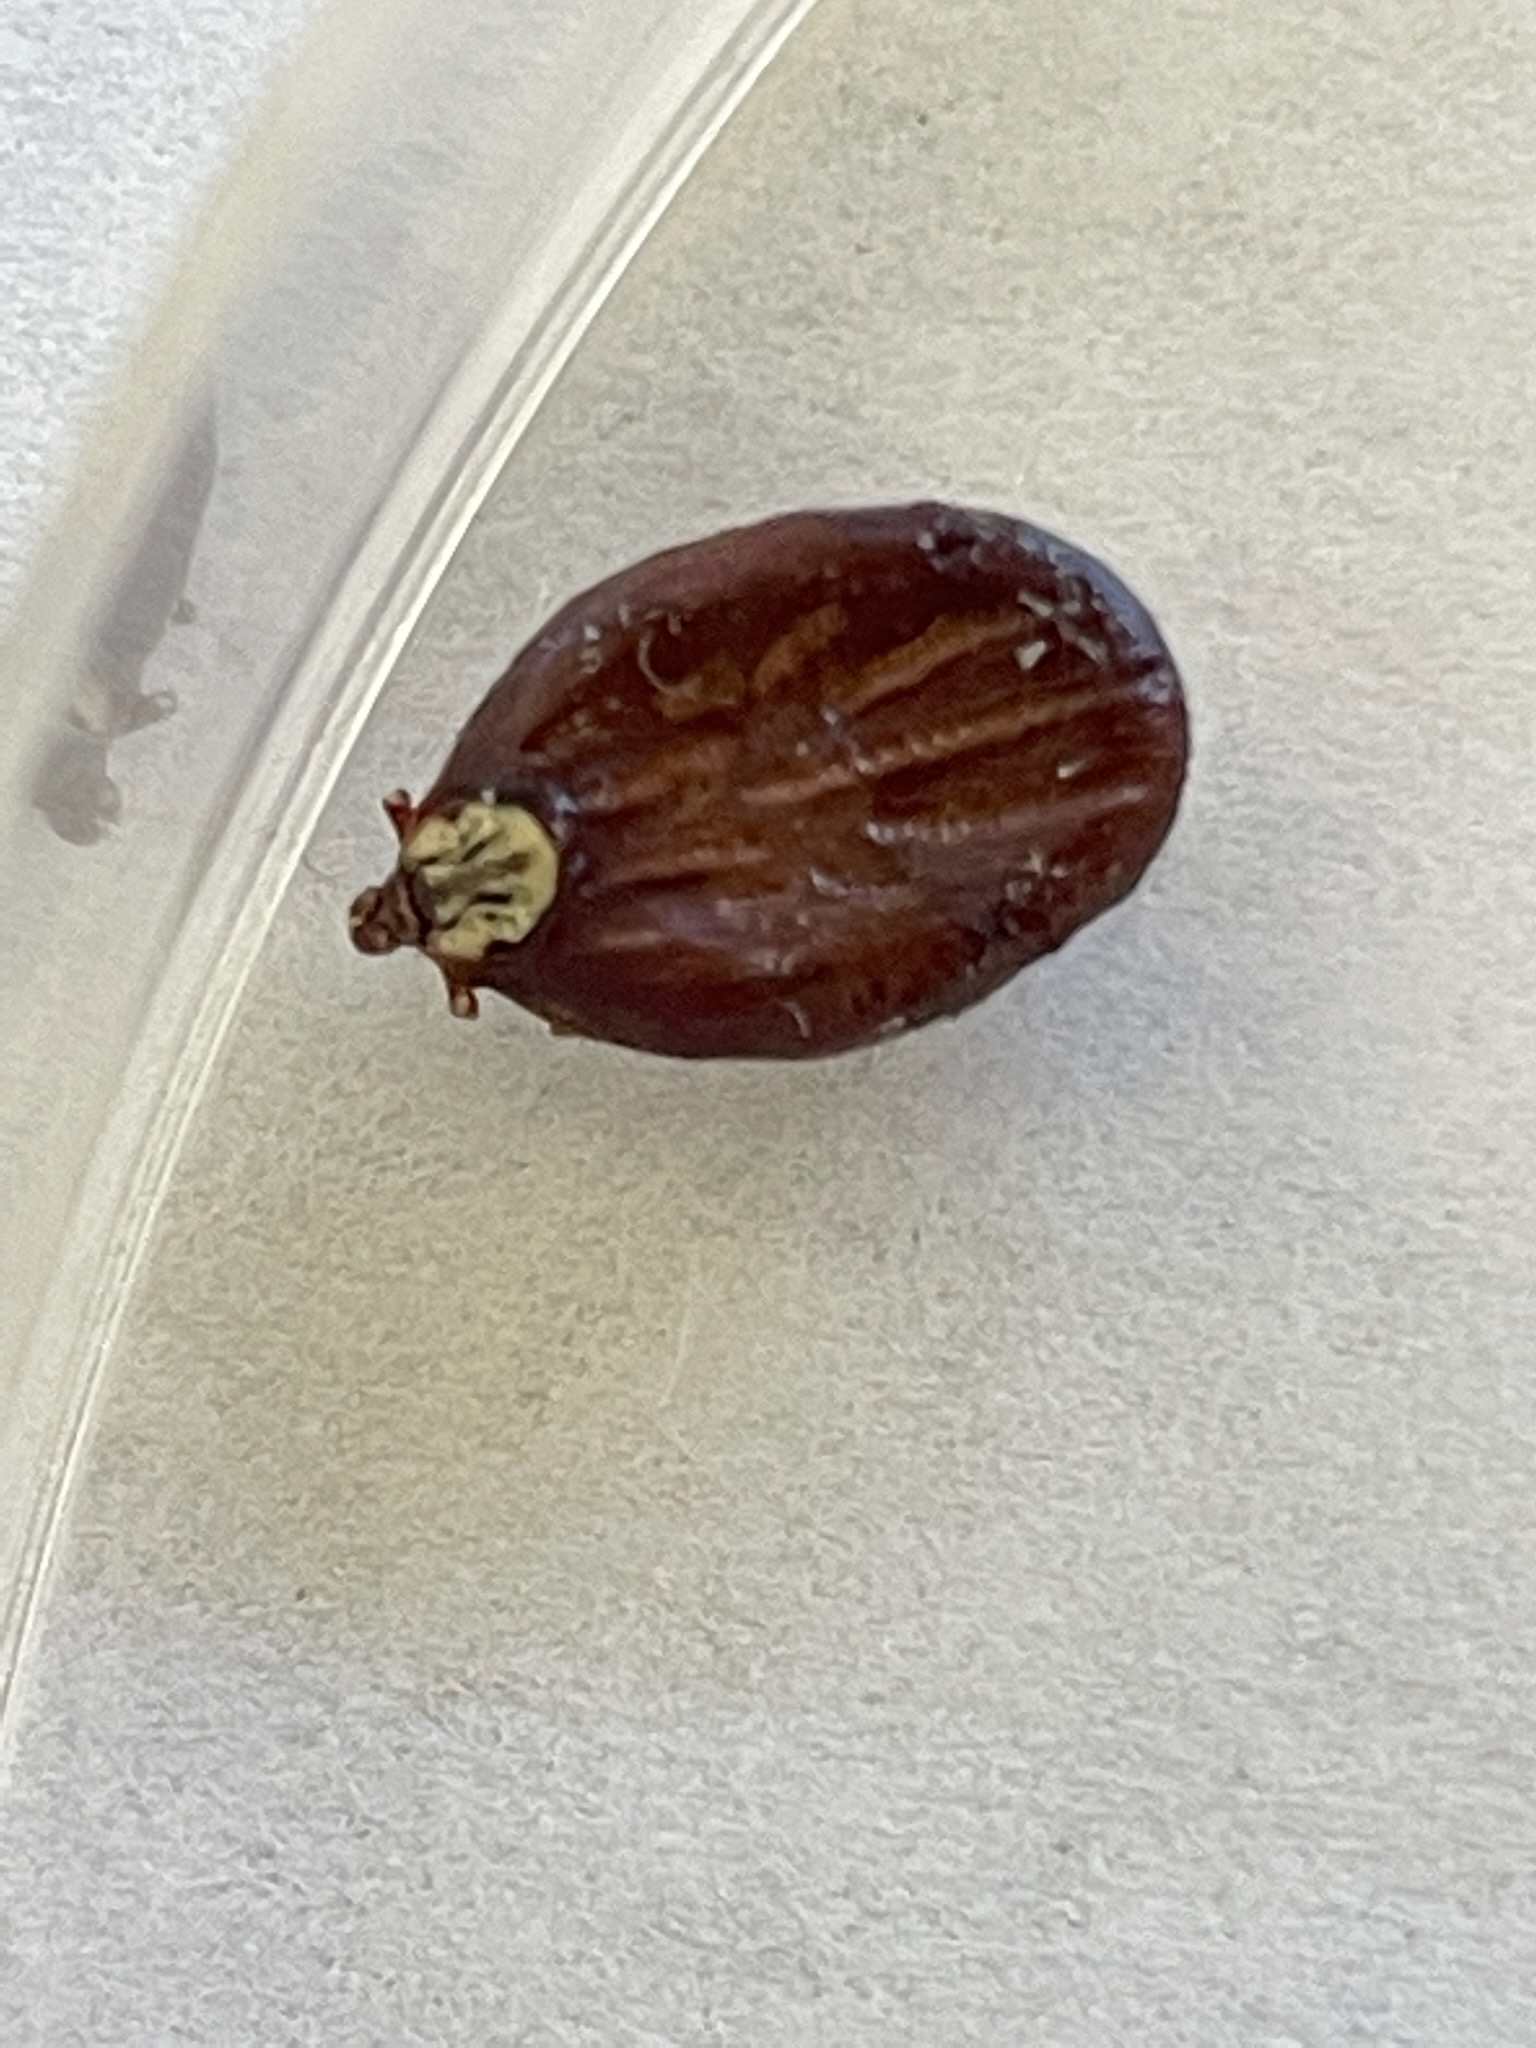unlabelled_tick: (344, 504, 1227, 1090)
